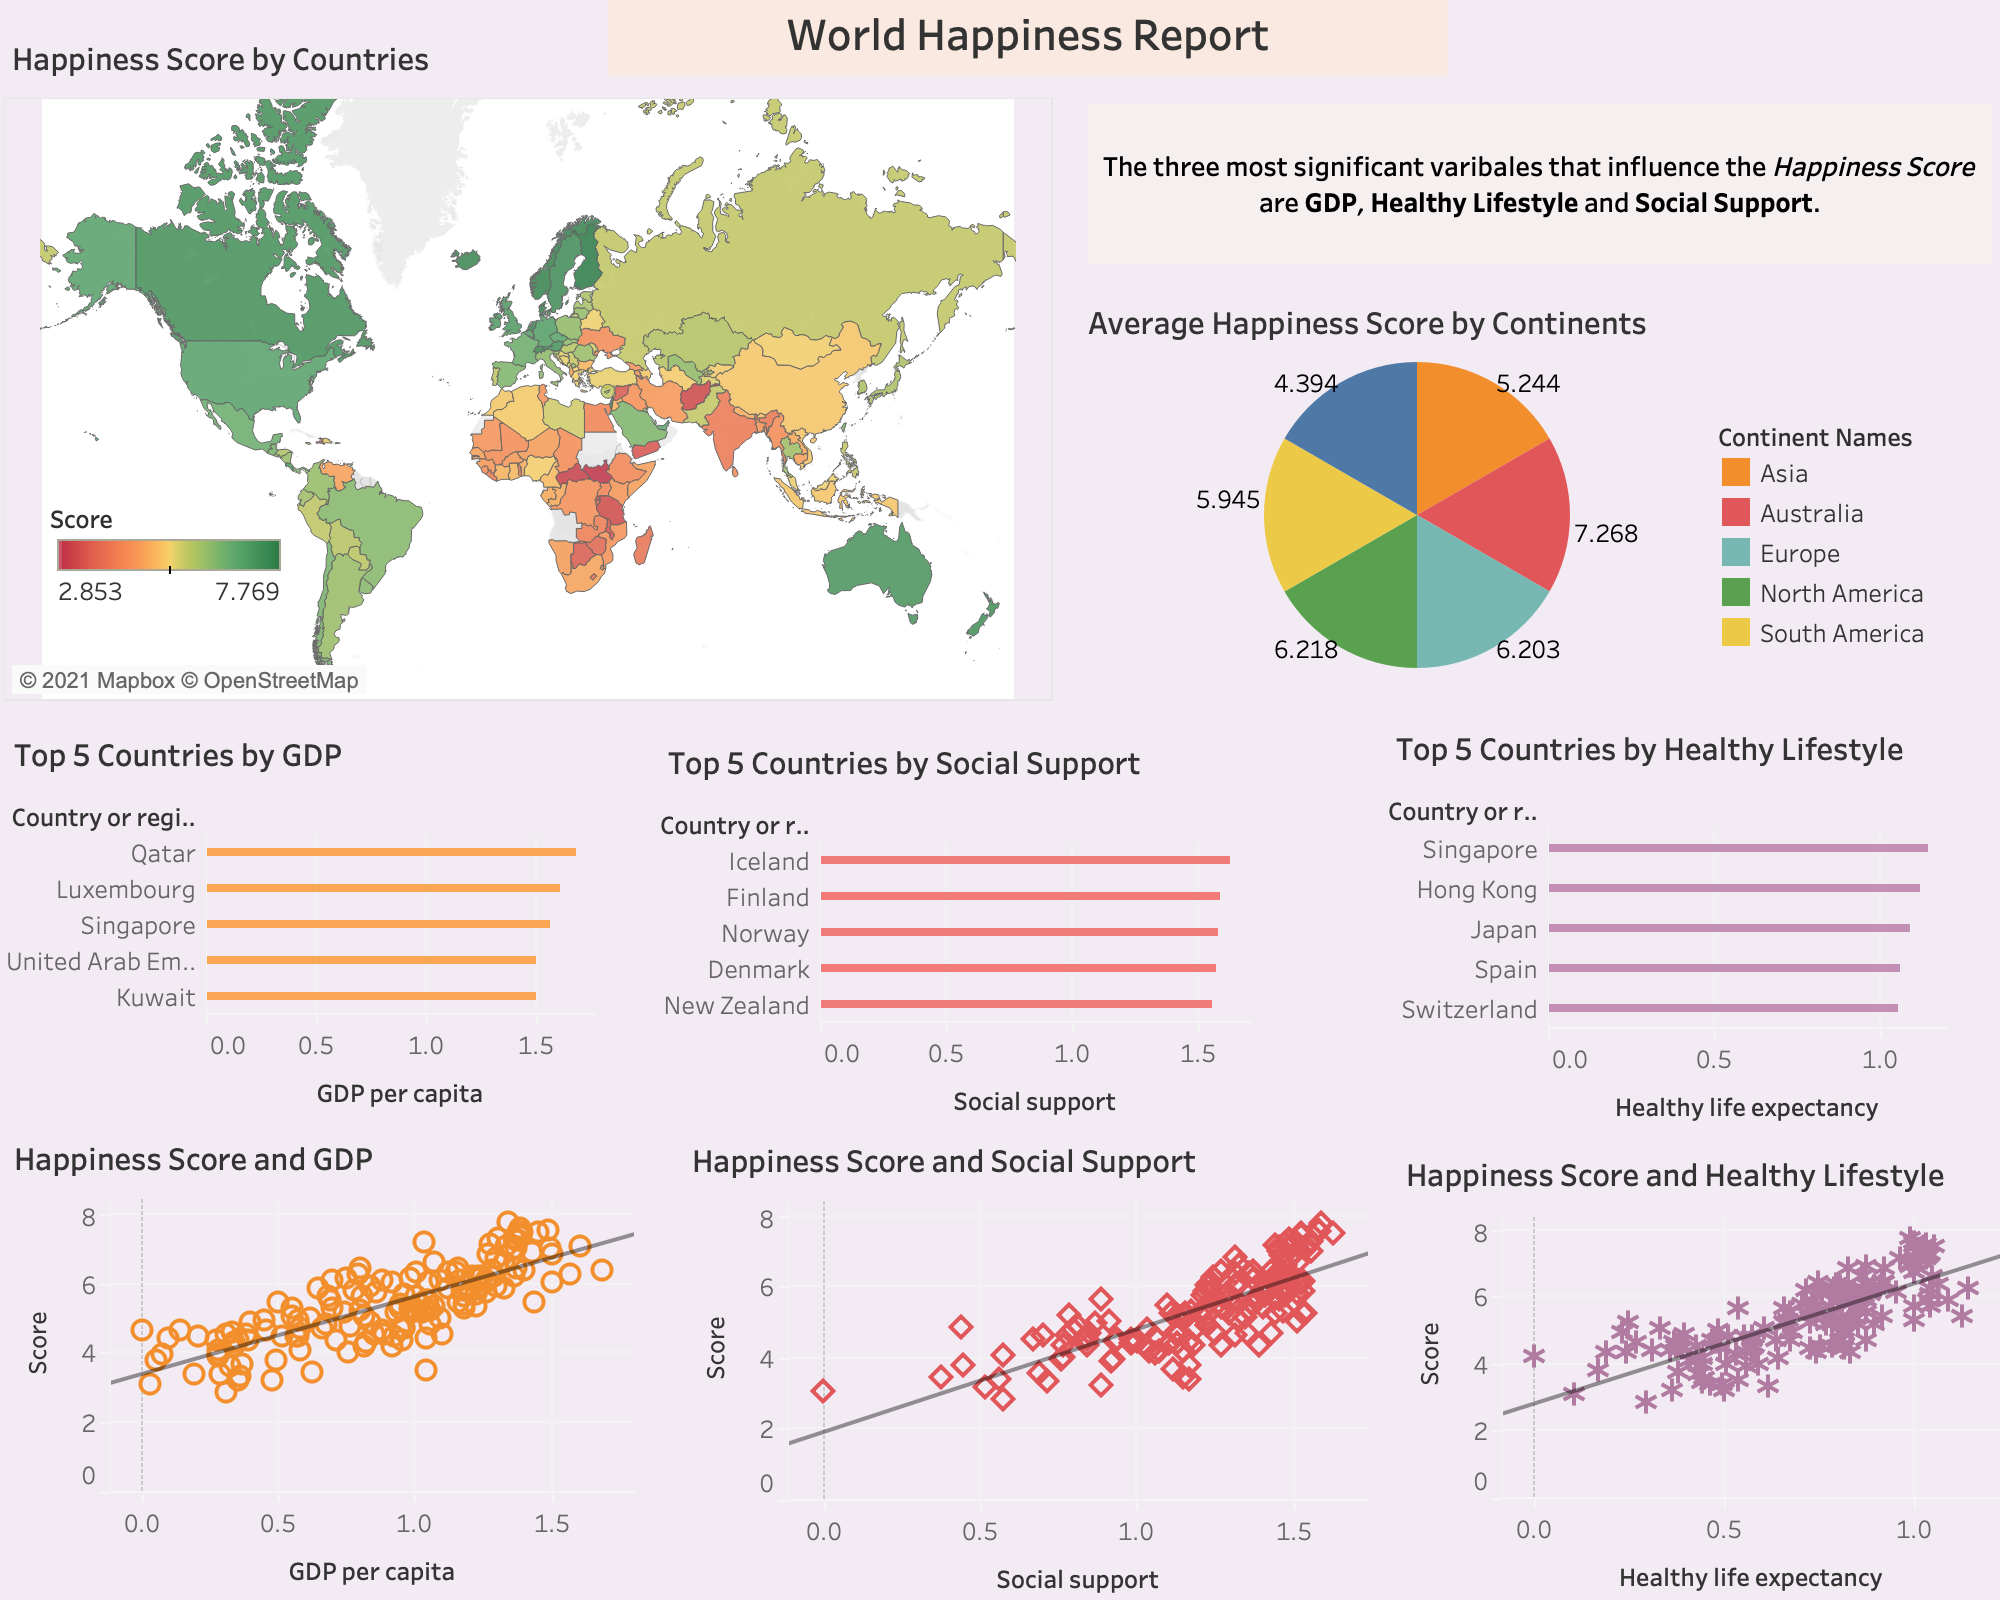

Layout of this report page (visuals, bound fields, positions):
{"tool":"tableau","page":{"name":"Dashboard 1","canvas":[1000,800],"ordinal":0},"visuals":[{"type":"worksheet","title":"Happiness Score Map","mark":"Automatic","box":[2,13,525,338]},{"type":"worksheet","box":[544,52,452,80]},{"type":"worksheet","title":"Scores by Continent","mark":"Pie","box":[540,145,405,323]},{"type":"worksheet","title":"Happiness Score Map","mark":"Automatic","param":"[federated.1jml5220vxm0sb18ou8tt0na8srl].[sum:Score:qk]","box":[25,247,120,64]},{"type":"worksheet","title":"Top5 GDP","mark":"Automatic","rows":["Country or region"],"cols":["GDP per capita"],"box":[3,361,309,217]},{"type":"worksheet","title":"Top5 SS","mark":"Automatic","rows":["Country or region"],"cols":["Social support"],"box":[330,365,333,266]},{"type":"worksheet","title":"Score/GDP","mark":"Automatic","rows":["Score"],"cols":["GDP per capita"],"box":[3,563,314,238]},{"type":"worksheet","title":"Score/Health","mark":"Automatic","rows":["Score"],"cols":["Healthy life expectancy"],"box":[699,571,301,233]}]}

Visuals, with their boxes in screenshot pixels (x1, y1, x2, y2), scaled from the page's 1000x800 canvas onto the 2000x1600 screenshot:
"Happiness Score Map" worksheet: 4,26,1054,702
worksheet: 1088,104,1992,264
"Scores by Continent" worksheet (Pie marks): 1080,290,1890,936
"Happiness Score Map" worksheet: 50,494,290,622
"Top5 GDP" worksheet: 6,722,624,1156
"Top5 SS" worksheet: 660,730,1326,1262
"Score/GDP" worksheet: 6,1126,634,1599
"Score/Health" worksheet: 1398,1142,1999,1599
